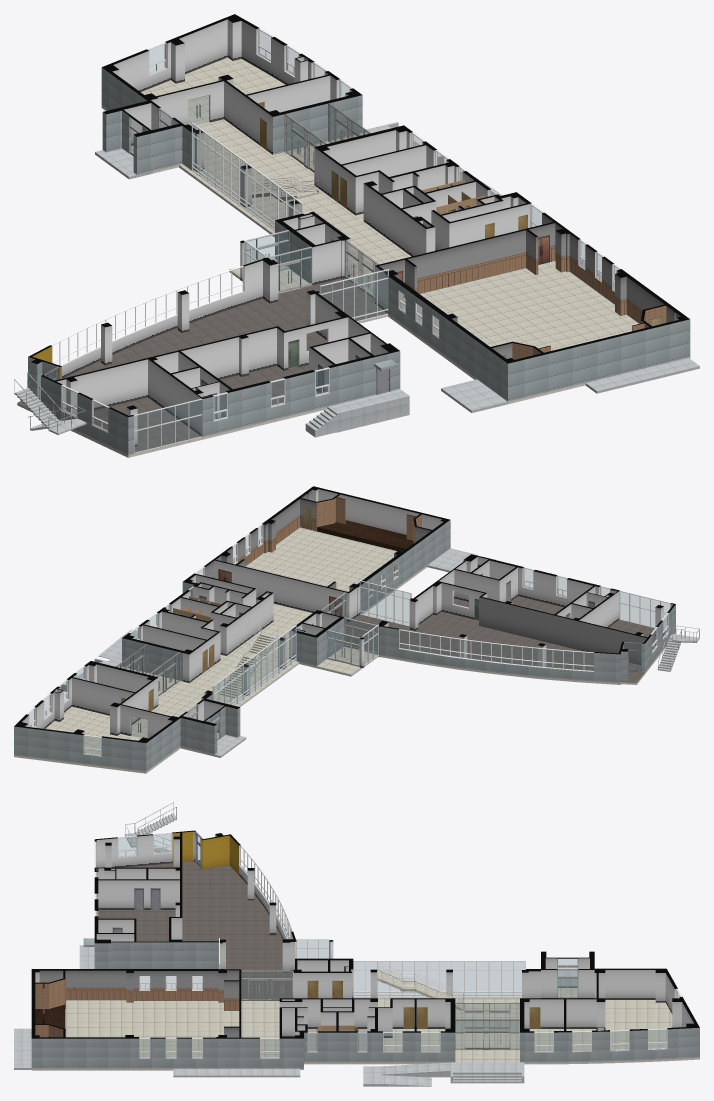
The model's file is Admin-1F.glb.
3 views of the same model, one above another, from view 1: azimuth 30°, elevation 25°; view 2: azimuth 150°, elevation 25°; view 3: azimuth 270°, elevation 25° (orthographic). The views are drawn at different scales.
Visible parts, largest first — view 1: 1f, Line126, Plane002, Rectangle948, Rectangle829, Rectangle821; view 2: 1f, Line126, Plane002, Rectangle948, Rectangle829, Line2284, Rectangle821; view 3: 1f, Line126, Plane002, Rectangle948, Rectangle829, Line2284, Rectangle821, Line2289.
Boxes of the visible parts, x1,y1,x2,y2 form: 1f: [28, 14, 690, 455]; Line126: [17, 57, 699, 457]; Plane002: [46, 31, 618, 452]; Rectangle948: [51, 28, 620, 453]; Rectangle829: [44, 94, 379, 380]; Rectangle821: [14, 388, 86, 434]; 1f: [14, 486, 675, 771]; Line126: [14, 527, 675, 773]; Plane002: [29, 526, 669, 754]; Rectangle948: [27, 524, 670, 756]; Rectangle829: [116, 592, 641, 740]; Line2284: [317, 520, 413, 551]; Rectangle821: [657, 634, 699, 671]; 1f: [31, 830, 699, 1068]; Line126: [14, 860, 699, 1086]; Plane002: [118, 834, 679, 1056]; Rectangle948: [94, 832, 681, 1058]; Rectangle829: [195, 832, 578, 1049]; Line2284: [35, 1004, 65, 1028]; Rectangle821: [124, 813, 176, 852]; Line2289: [377, 961, 464, 1000].
Size of the model in its own units: 50.78 by 5.91 by 62.58.
Materials: 23 (21 with a texture image).
